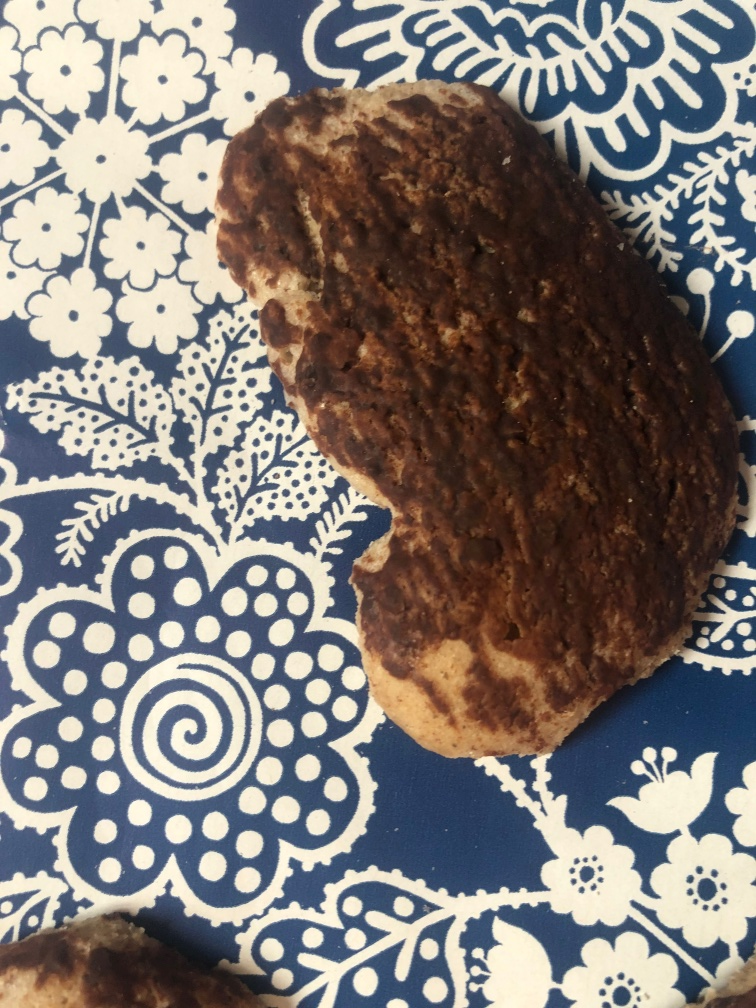weird #1: (220, 74, 724, 759)
